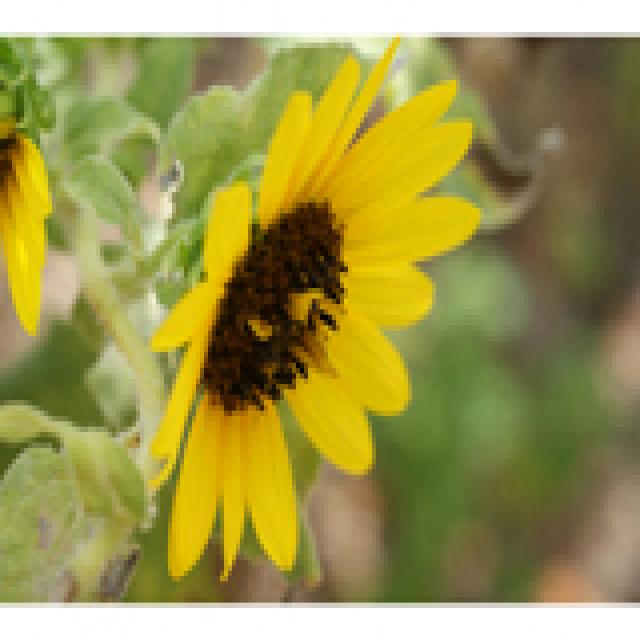sunflower: (130, 38, 489, 598), (0, 94, 68, 350)
